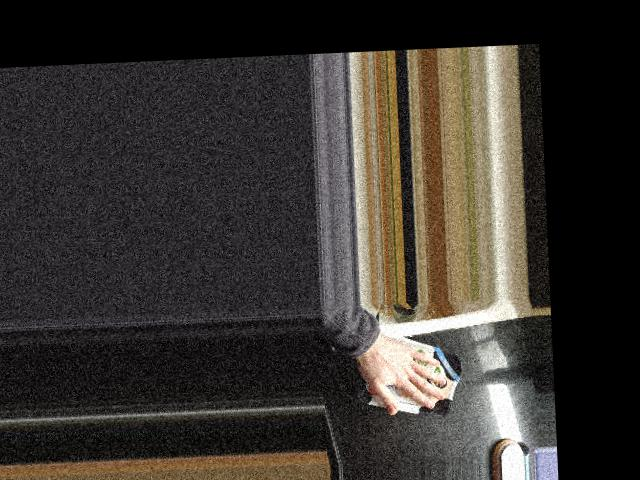cheese: (352, 324, 466, 423)
